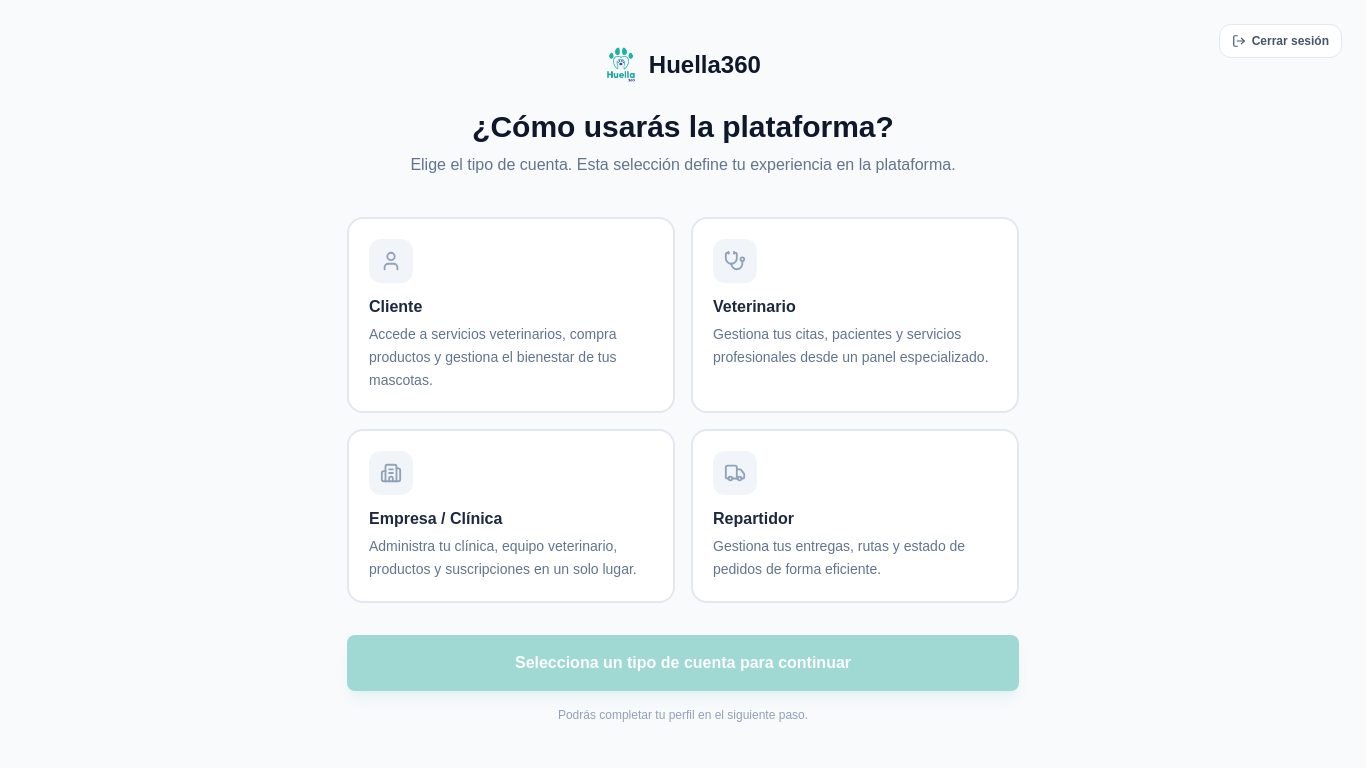
Test case: RoleSelectionPage › otros errores al guardar el rol se siguen mostrando en pantalla
What coordinates should you click on to do the following:
click the text "Cliente"
I would click on:
 (396, 307)
Its box is x1=369 y1=298 x2=422 y2=315.
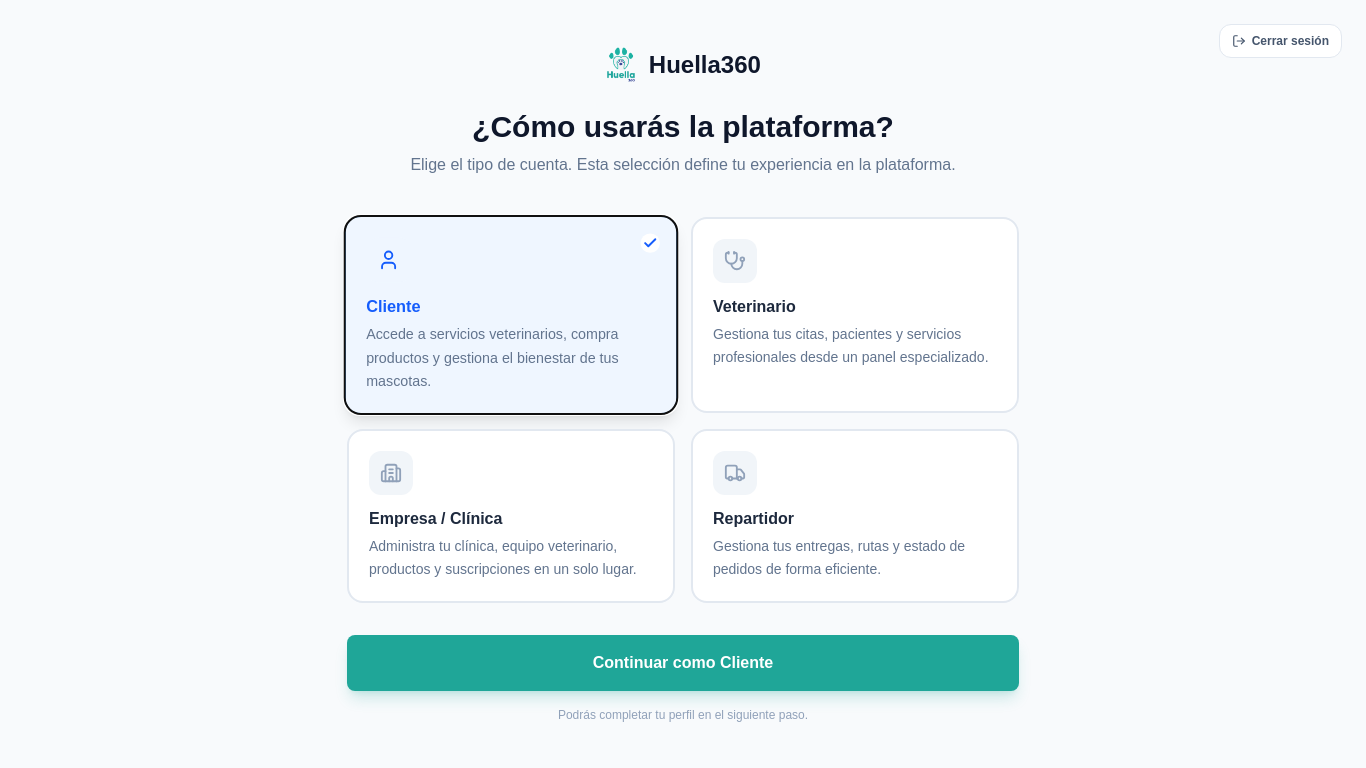
What coordinates should you click on to do the following:
click the button "Continuar como Cliente"
I would click on:
 (683, 663)
Its box is x1=347 y1=635 x2=1019 y2=691.
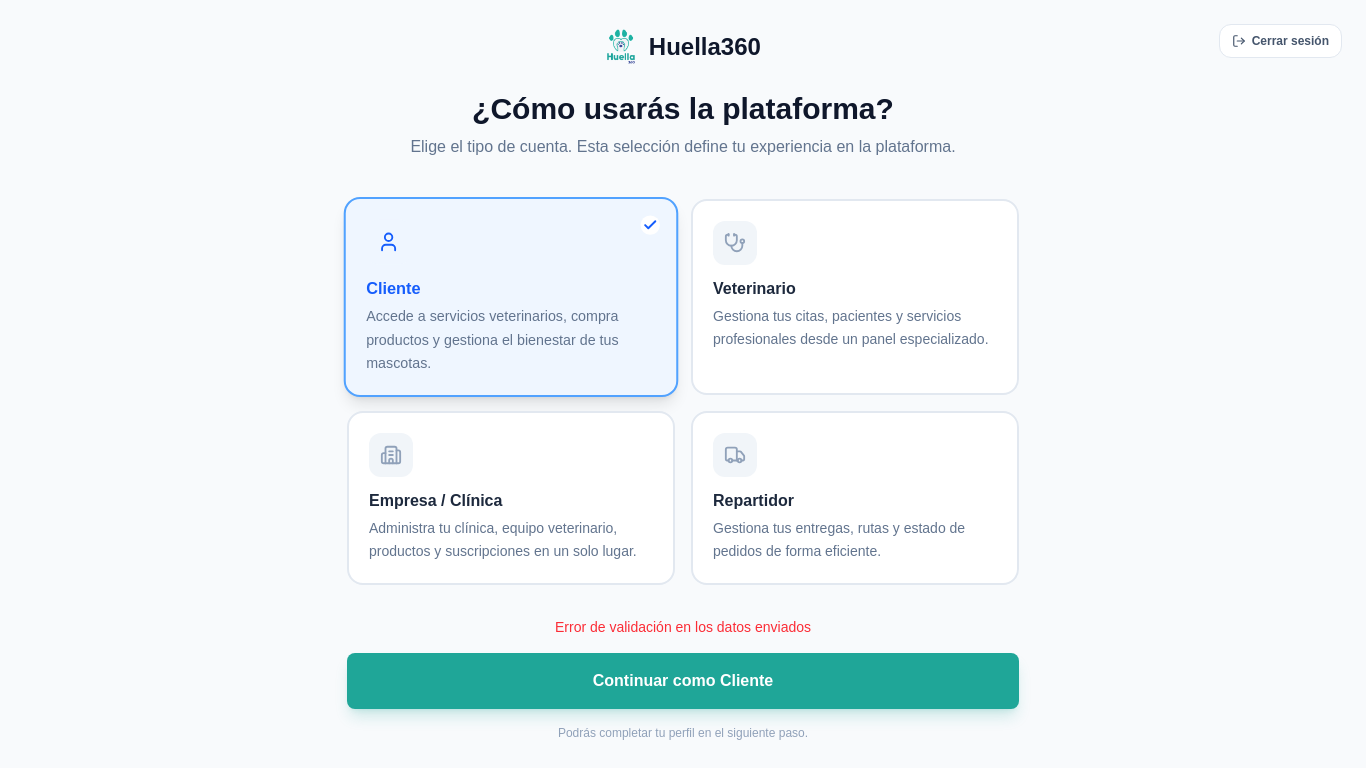
Check: the text "Error de validación en los datos enviados" is shown, box x1=555 y1=619 x2=811 y2=635
